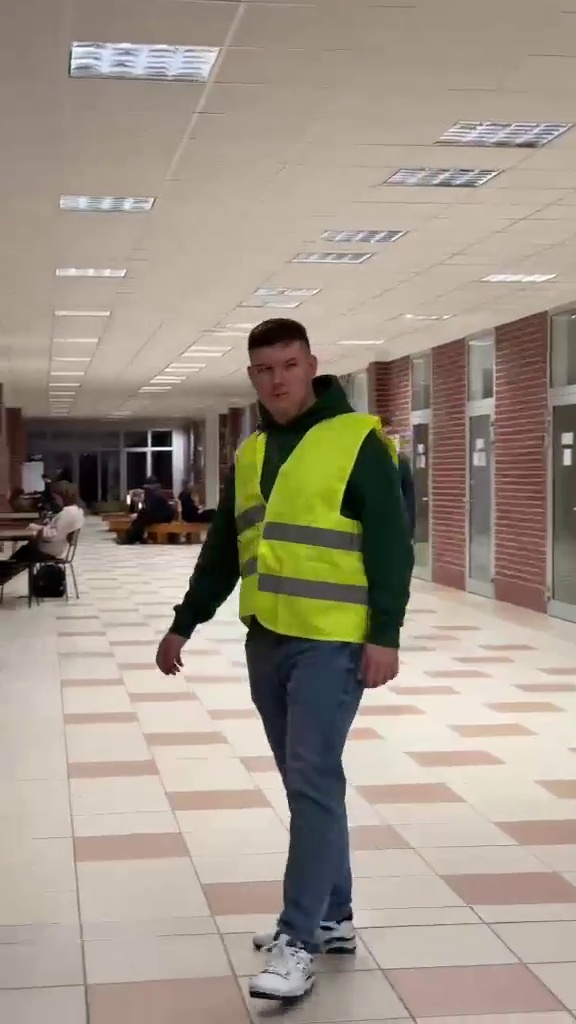no vest: (8, 480, 92, 603)
vest: (159, 306, 432, 998)
